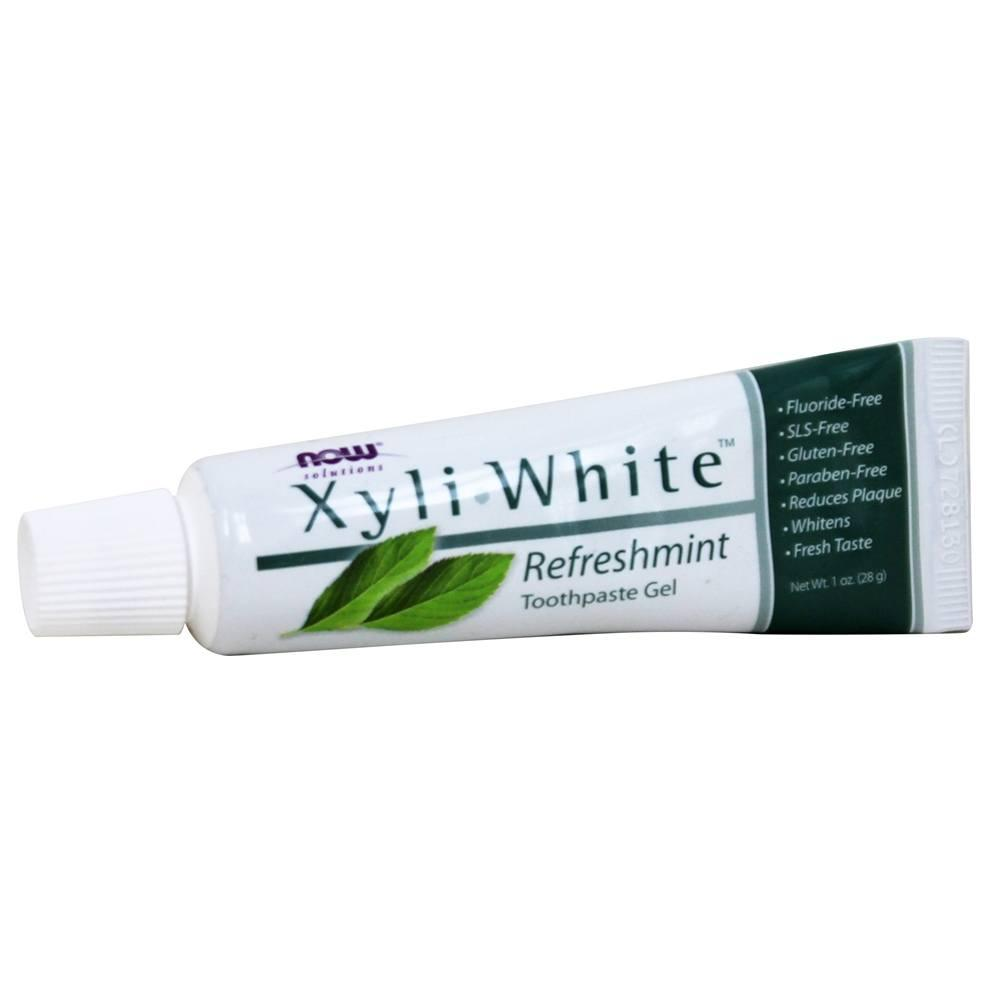toothpaste: (0, 293, 989, 695)
